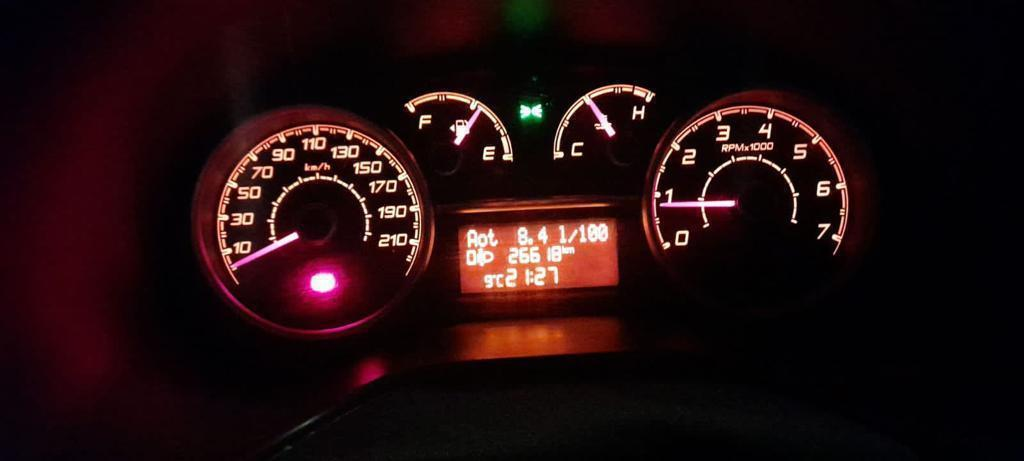,: (527, 237, 534, 245)
0: (587, 222, 598, 242), (598, 222, 609, 242), (465, 249, 476, 265)
1: (578, 223, 587, 243), (524, 268, 530, 286), (545, 245, 551, 261)
2: (504, 267, 517, 288), (534, 266, 546, 286), (507, 246, 518, 264)
4: (537, 224, 548, 244)
6: (529, 245, 541, 263), (518, 246, 529, 263)
7: (546, 265, 559, 285)
8: (516, 225, 528, 245), (551, 245, 561, 262)
9: (483, 273, 493, 288)
X: (466, 229, 477, 248), (488, 227, 498, 247), (557, 224, 566, 244), (477, 231, 488, 247), (567, 228, 578, 243), (495, 273, 504, 288), (529, 270, 534, 283), (567, 246, 575, 254), (562, 244, 567, 254)
odometer: (455, 215, 622, 297)
